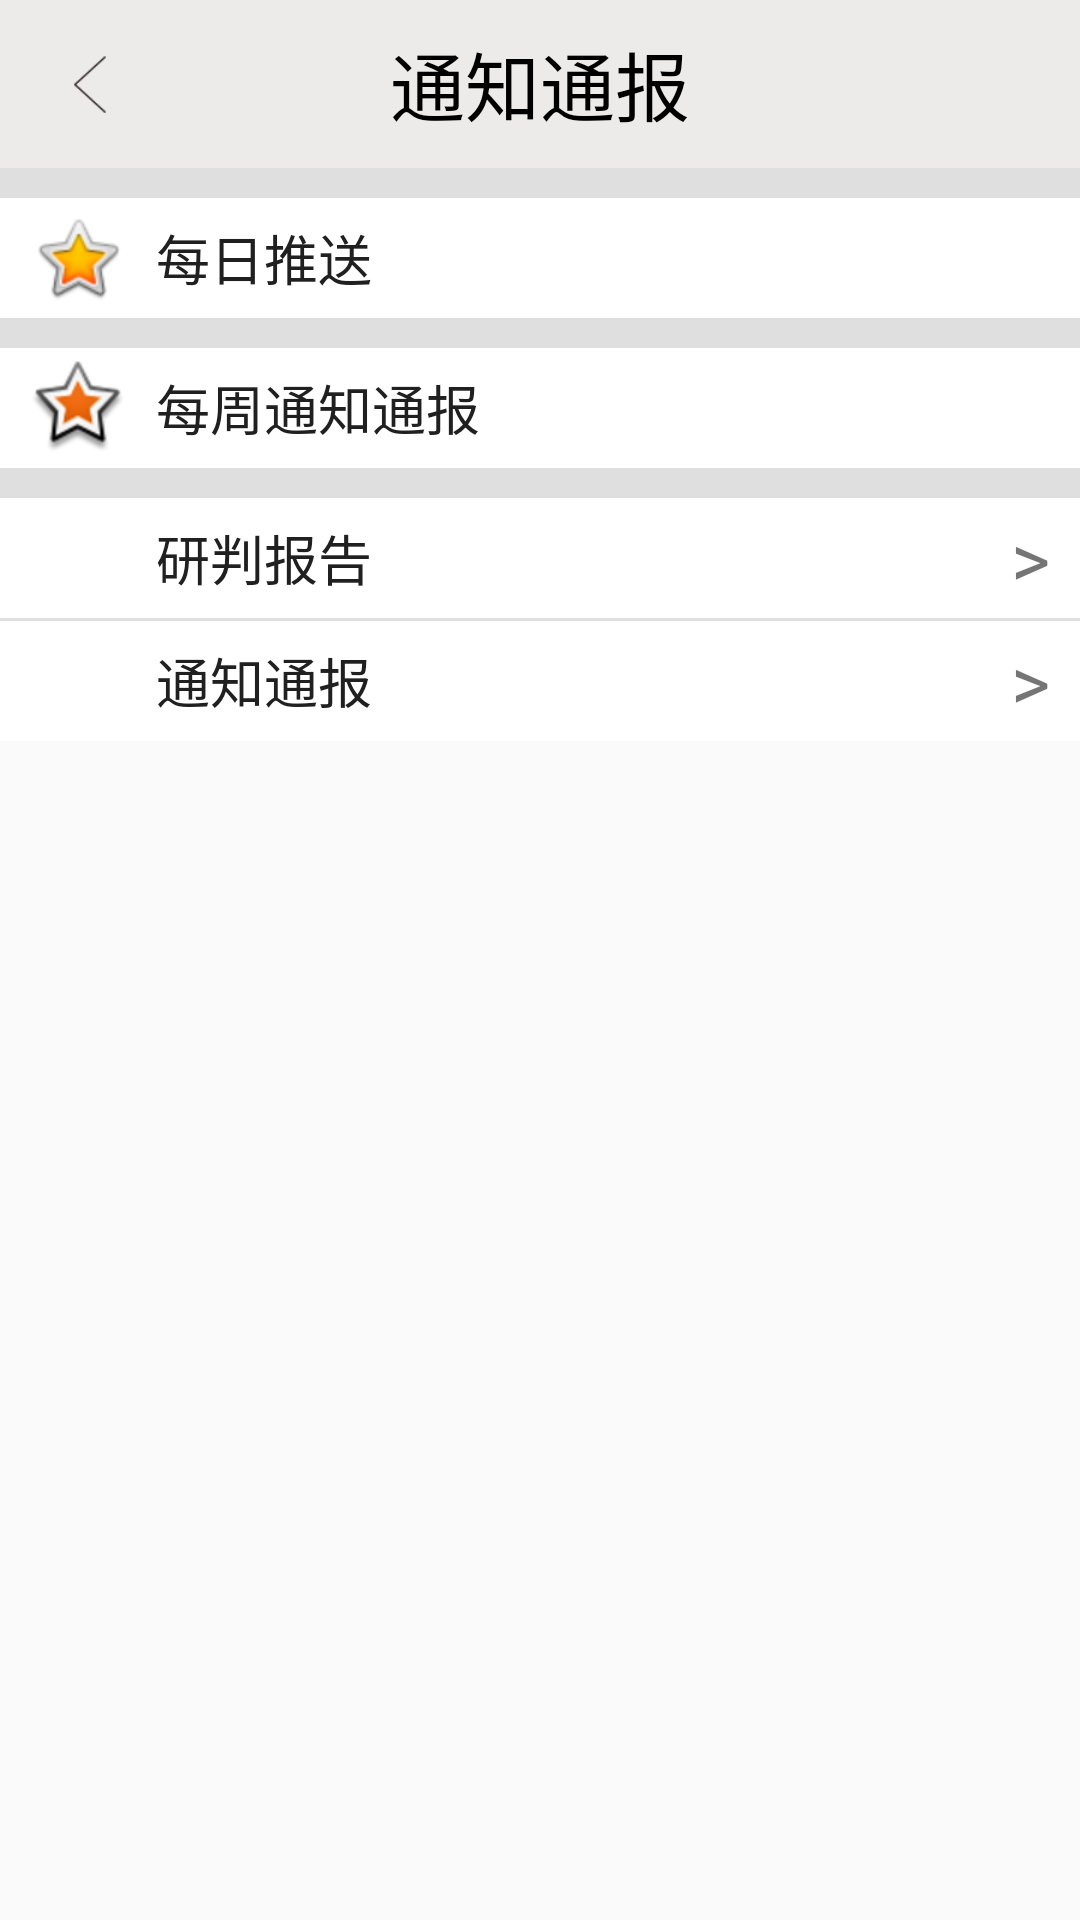

Locate icon controls on the screen. Image size 1080 x 1920, boxes as (left=x1, top=y1, right=x2, bottom=y2).
star on: (left=39, top=220, right=119, bottom=298), (left=35, top=361, right=121, bottom=448)
